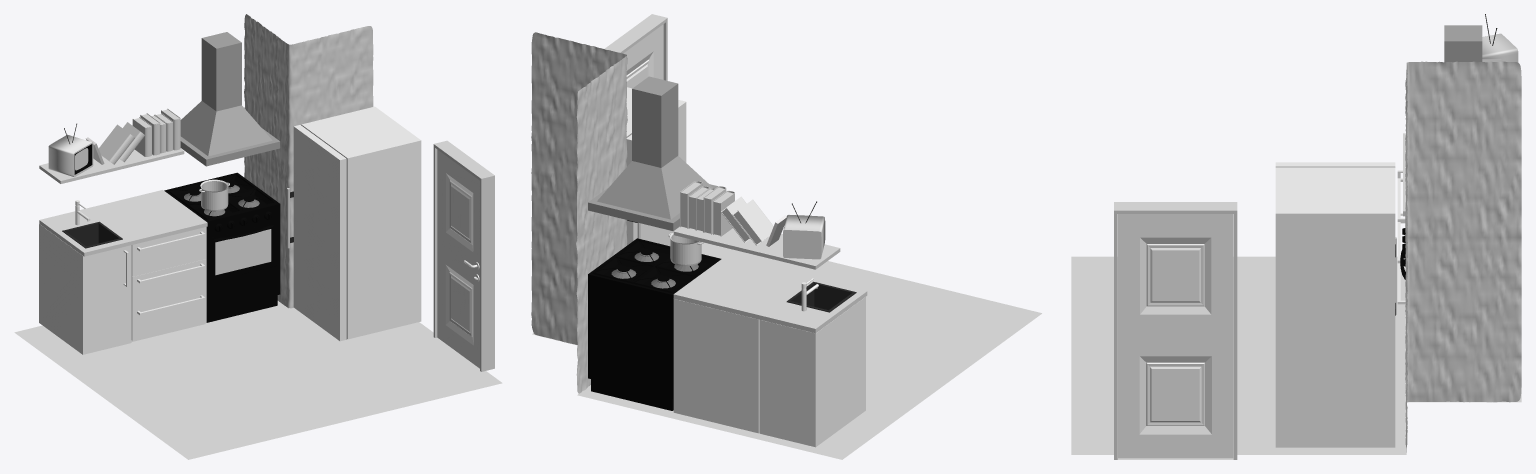
File: kitchen - Copy.fbx
3 views of the same model, side by side, from view 1: azimuth 30°, elevation 25°; view 2: azimuth 150°, elevation 25°; view 3: azimuth 270°, elevation 25° (orthographic). The views are drawn at different scales.
Visible parts, largest first — view 1: Floor, refri -outside, Brickwall, refri -door -outside, bench -cabinet, Door, fan, stove -outside, bench -drawer, bench -disk, Door -frame, stove -glas (+8 smaller); view 2: Brickwall, bench -cabinet, Floor, stove -outside, fan, bench -disk, shelf, TV, Door, refri -door -outside, Door -frame, stove -top (+6 smaller); view 3: Brickwall, refri -outside, Door, Floor, Door -frame, fan, TV, bench -handles, refri -door -outside.
Part boxes in pixels (x1,y1,x2,y2): Floor: [14, 301, 502, 459]; refri -outside: [301, 106, 421, 339]; Brickwall: [244, 14, 373, 308]; refri -door -outside: [293, 125, 346, 341]; bench -cabinet: [39, 224, 205, 354]; Door: [437, 149, 479, 368]; fan: [180, 32, 280, 166]; stove -outside: [164, 172, 280, 322]; bench -drawer: [131, 227, 206, 340]; bench -disk: [39, 190, 207, 256]; Door -frame: [433, 140, 494, 371]; stove -glas: [215, 229, 271, 275]; Brickwall: [531, 32, 627, 393]; bench -cabinet: [673, 297, 865, 447]; Floor: [532, 242, 1041, 459]; stove -outside: [588, 238, 721, 410]; fan: [588, 76, 717, 230]; bench -disk: [673, 256, 867, 333]; shelf: [673, 226, 840, 269]; TV: [783, 215, 825, 259]; Door: [623, 24, 663, 88]; refri -door -outside: [626, 100, 686, 246]; Door -frame: [604, 14, 667, 80]; stove -top: [592, 239, 717, 292]; Brickwall: [1405, 61, 1521, 452]; refri -outside: [1275, 167, 1395, 447]; Door: [1118, 214, 1233, 458]; Floor: [1071, 256, 1521, 454]; Door -frame: [1114, 202, 1237, 459]; fan: [1444, 25, 1482, 62]; TV: [1482, 33, 1518, 62]; bench -handles: [1397, 170, 1405, 304]; refri -door -outside: [1275, 162, 1395, 166].
Size of the model in its own units: 871 by 679 by 814.
